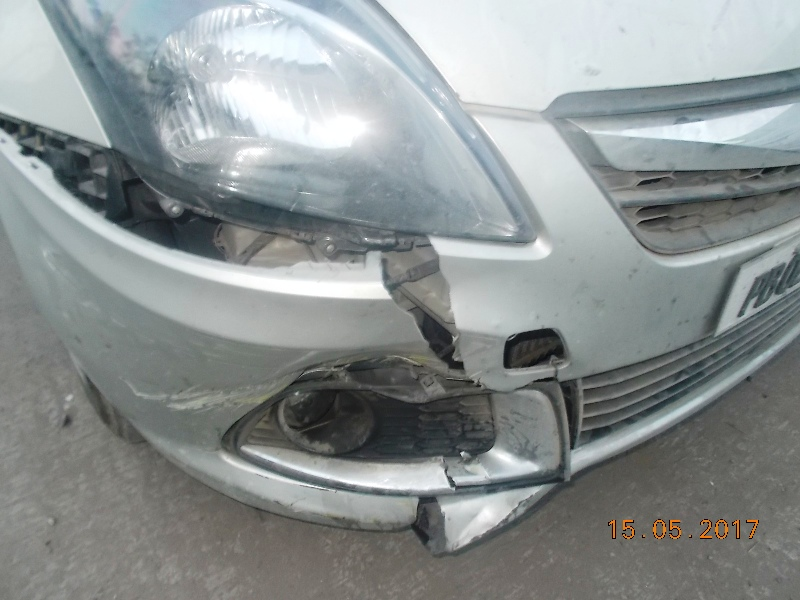Dislocation: (4, 103, 121, 208)
Tear: (381, 237, 471, 341), (400, 470, 444, 550)
